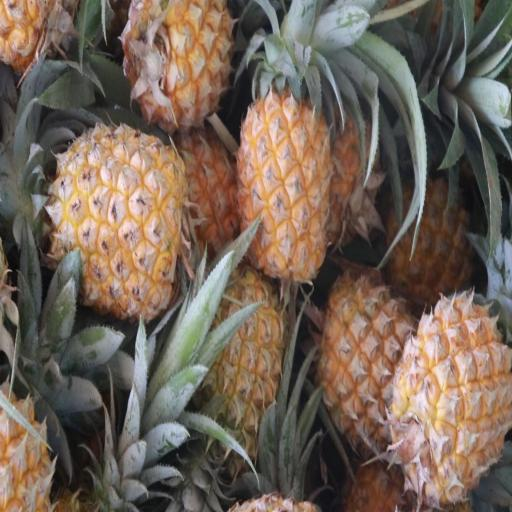------------------------------: (321, 278, 421, 454)
Pineapple - v8 v1: (59, 125, 186, 314), (396, 296, 510, 502), (240, 86, 333, 278), (200, 278, 282, 454), (126, 0, 232, 123), (391, 174, 477, 294)
